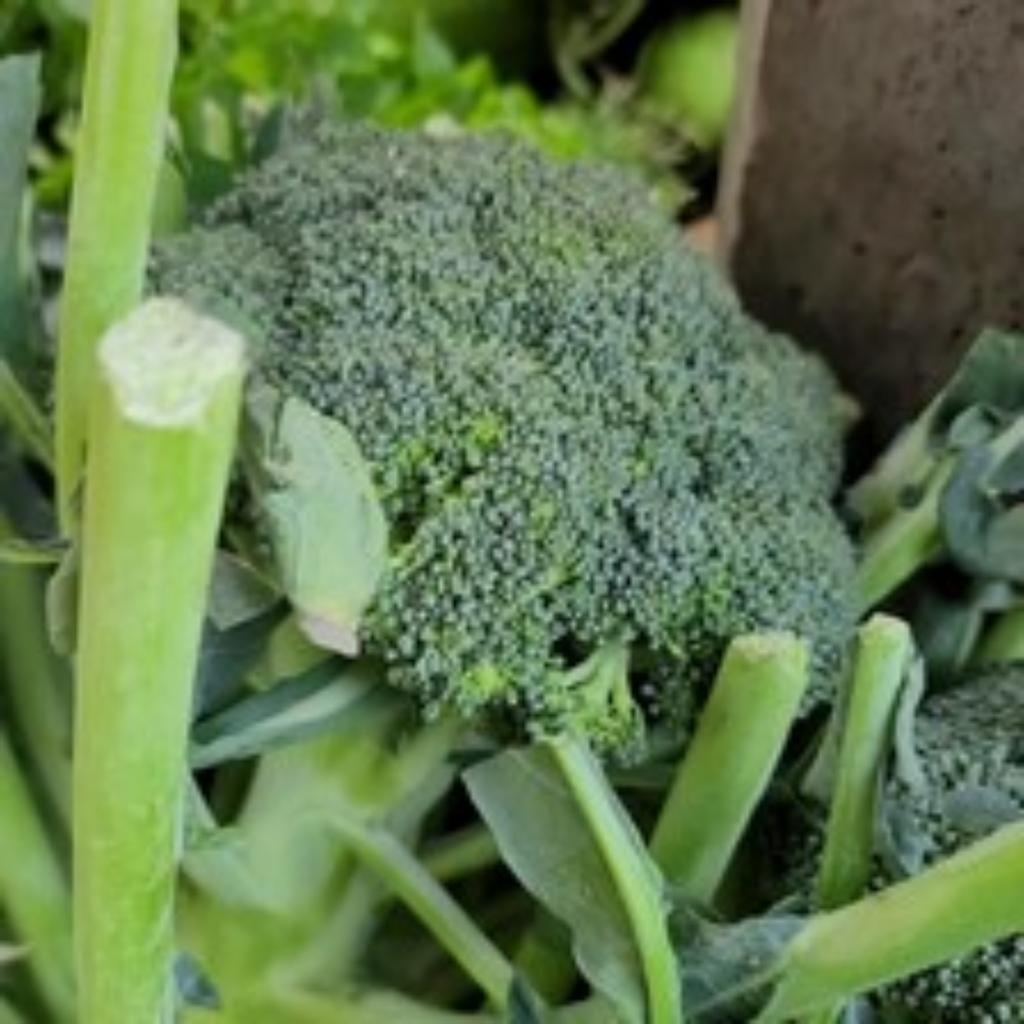Broccoli: (154, 130, 852, 729), (154, 134, 852, 731)
